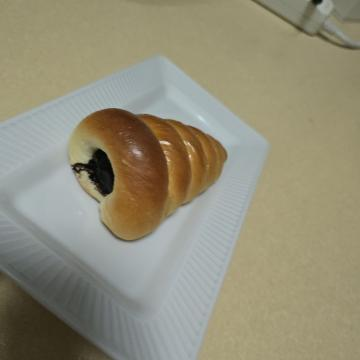cream horn: (96, 124, 256, 303)
